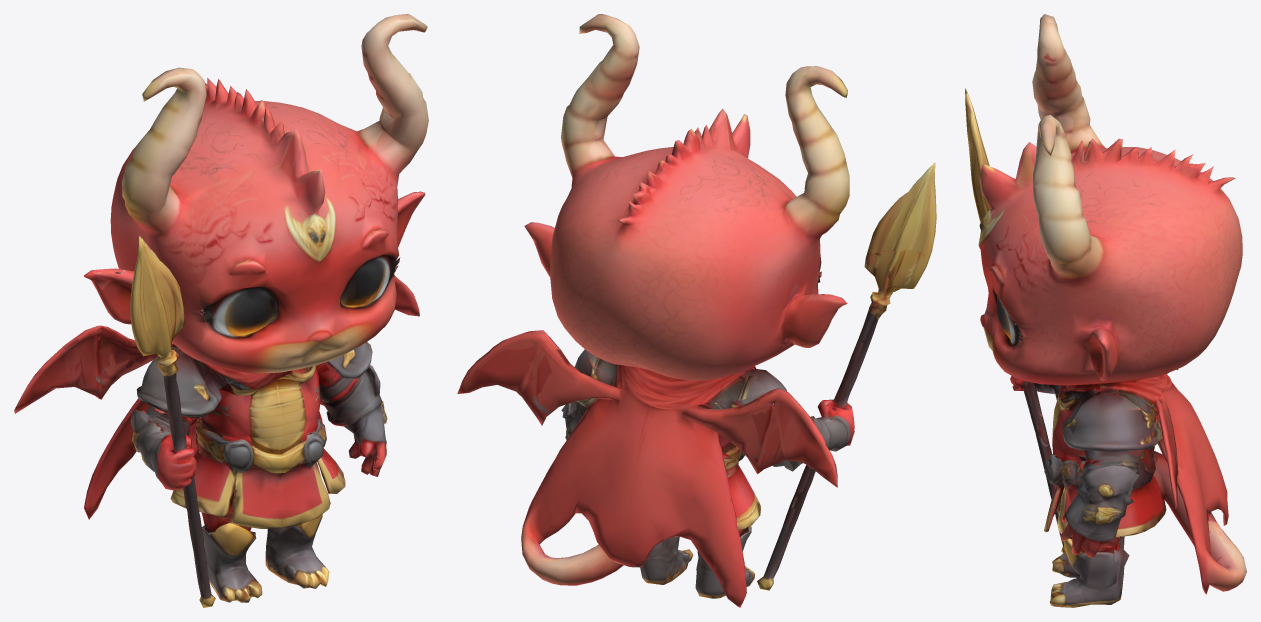
File: avatar.glb
3 views of the same model, side by side, from view 1: azimuth 30°, elevation 25°; view 2: azimuth 150°, elevation 25°; view 3: azimuth 270°, elevation 25° (orthographic). The views are drawn at different scales.
Size of the model in its own units: 1.51 by 1.99 by 0.9801.
Materials: 1 (1 with a texture image).
